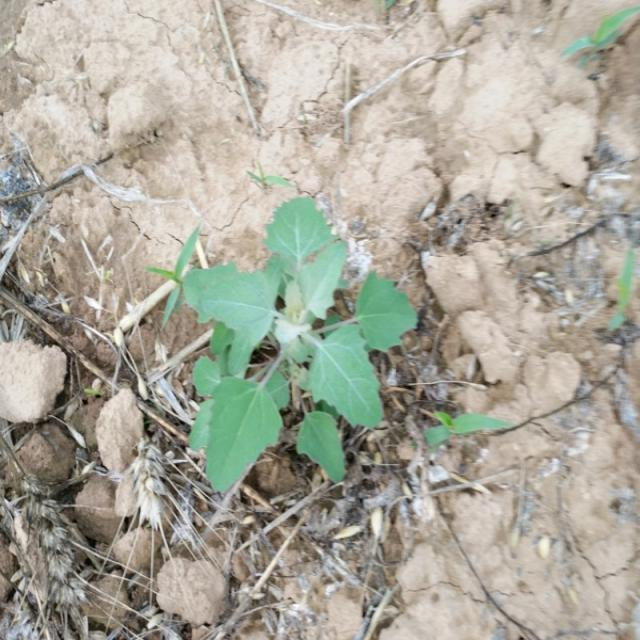goosefoots: (174, 204, 421, 506)
